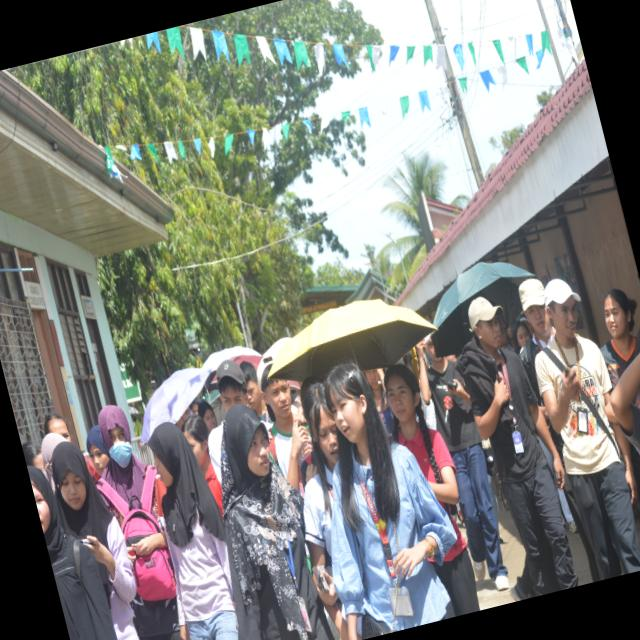person: (325, 363, 457, 639), (457, 297, 578, 594), (536, 279, 639, 579), (222, 405, 334, 639), (384, 365, 479, 616), (417, 338, 509, 590), (149, 423, 239, 639), (51, 442, 139, 639), (27, 466, 118, 639), (258, 362, 311, 496), (301, 380, 339, 566), (98, 405, 155, 508), (183, 416, 223, 516), (601, 289, 636, 387), (611, 333, 639, 452), (240, 361, 270, 423), (365, 370, 393, 434), (217, 360, 247, 413), (86, 425, 110, 476), (513, 320, 531, 355), (22, 441, 43, 470), (198, 401, 216, 431)
